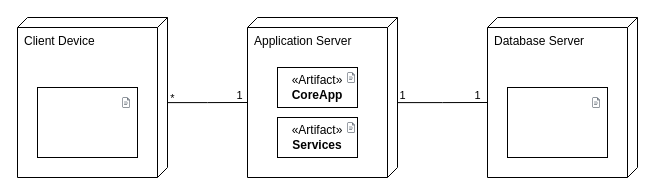
This 655x195 diagram has some shape labels left out. The centre of each missing label's shape, as x and y in pixels:
"«Artifact» DB" goes at point 557,122.
"«Artifact» UI" goes at point 87,122.
